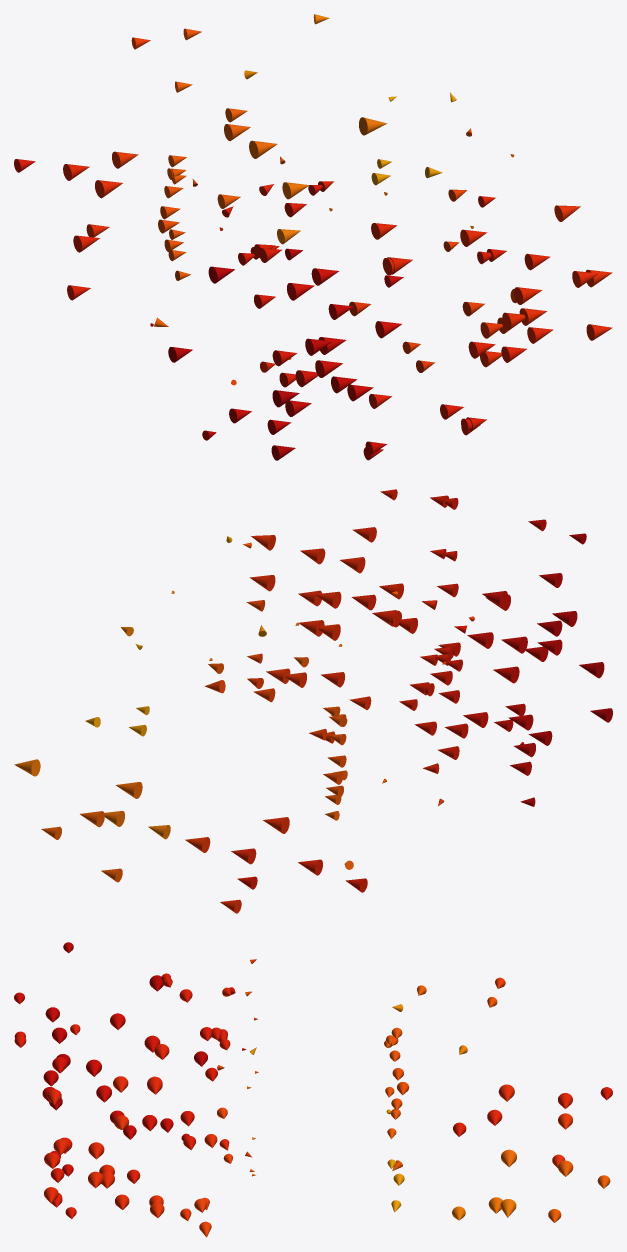
File: LineasCorrienteH2-O2_mh2-8.20_V-0.9.glb
3 views of the same model, one above another, from view 1: azimuth 30°, elevation 25°; view 2: azimuth 150°, elevation 25°; view 3: azimuth 270°, elevation 25° (orthographic). The views are drawn at different scales.
Bounding box in the file's own units: 0.000809 × 0.00049 × 0.00124.
2 materials, 2 textured.
